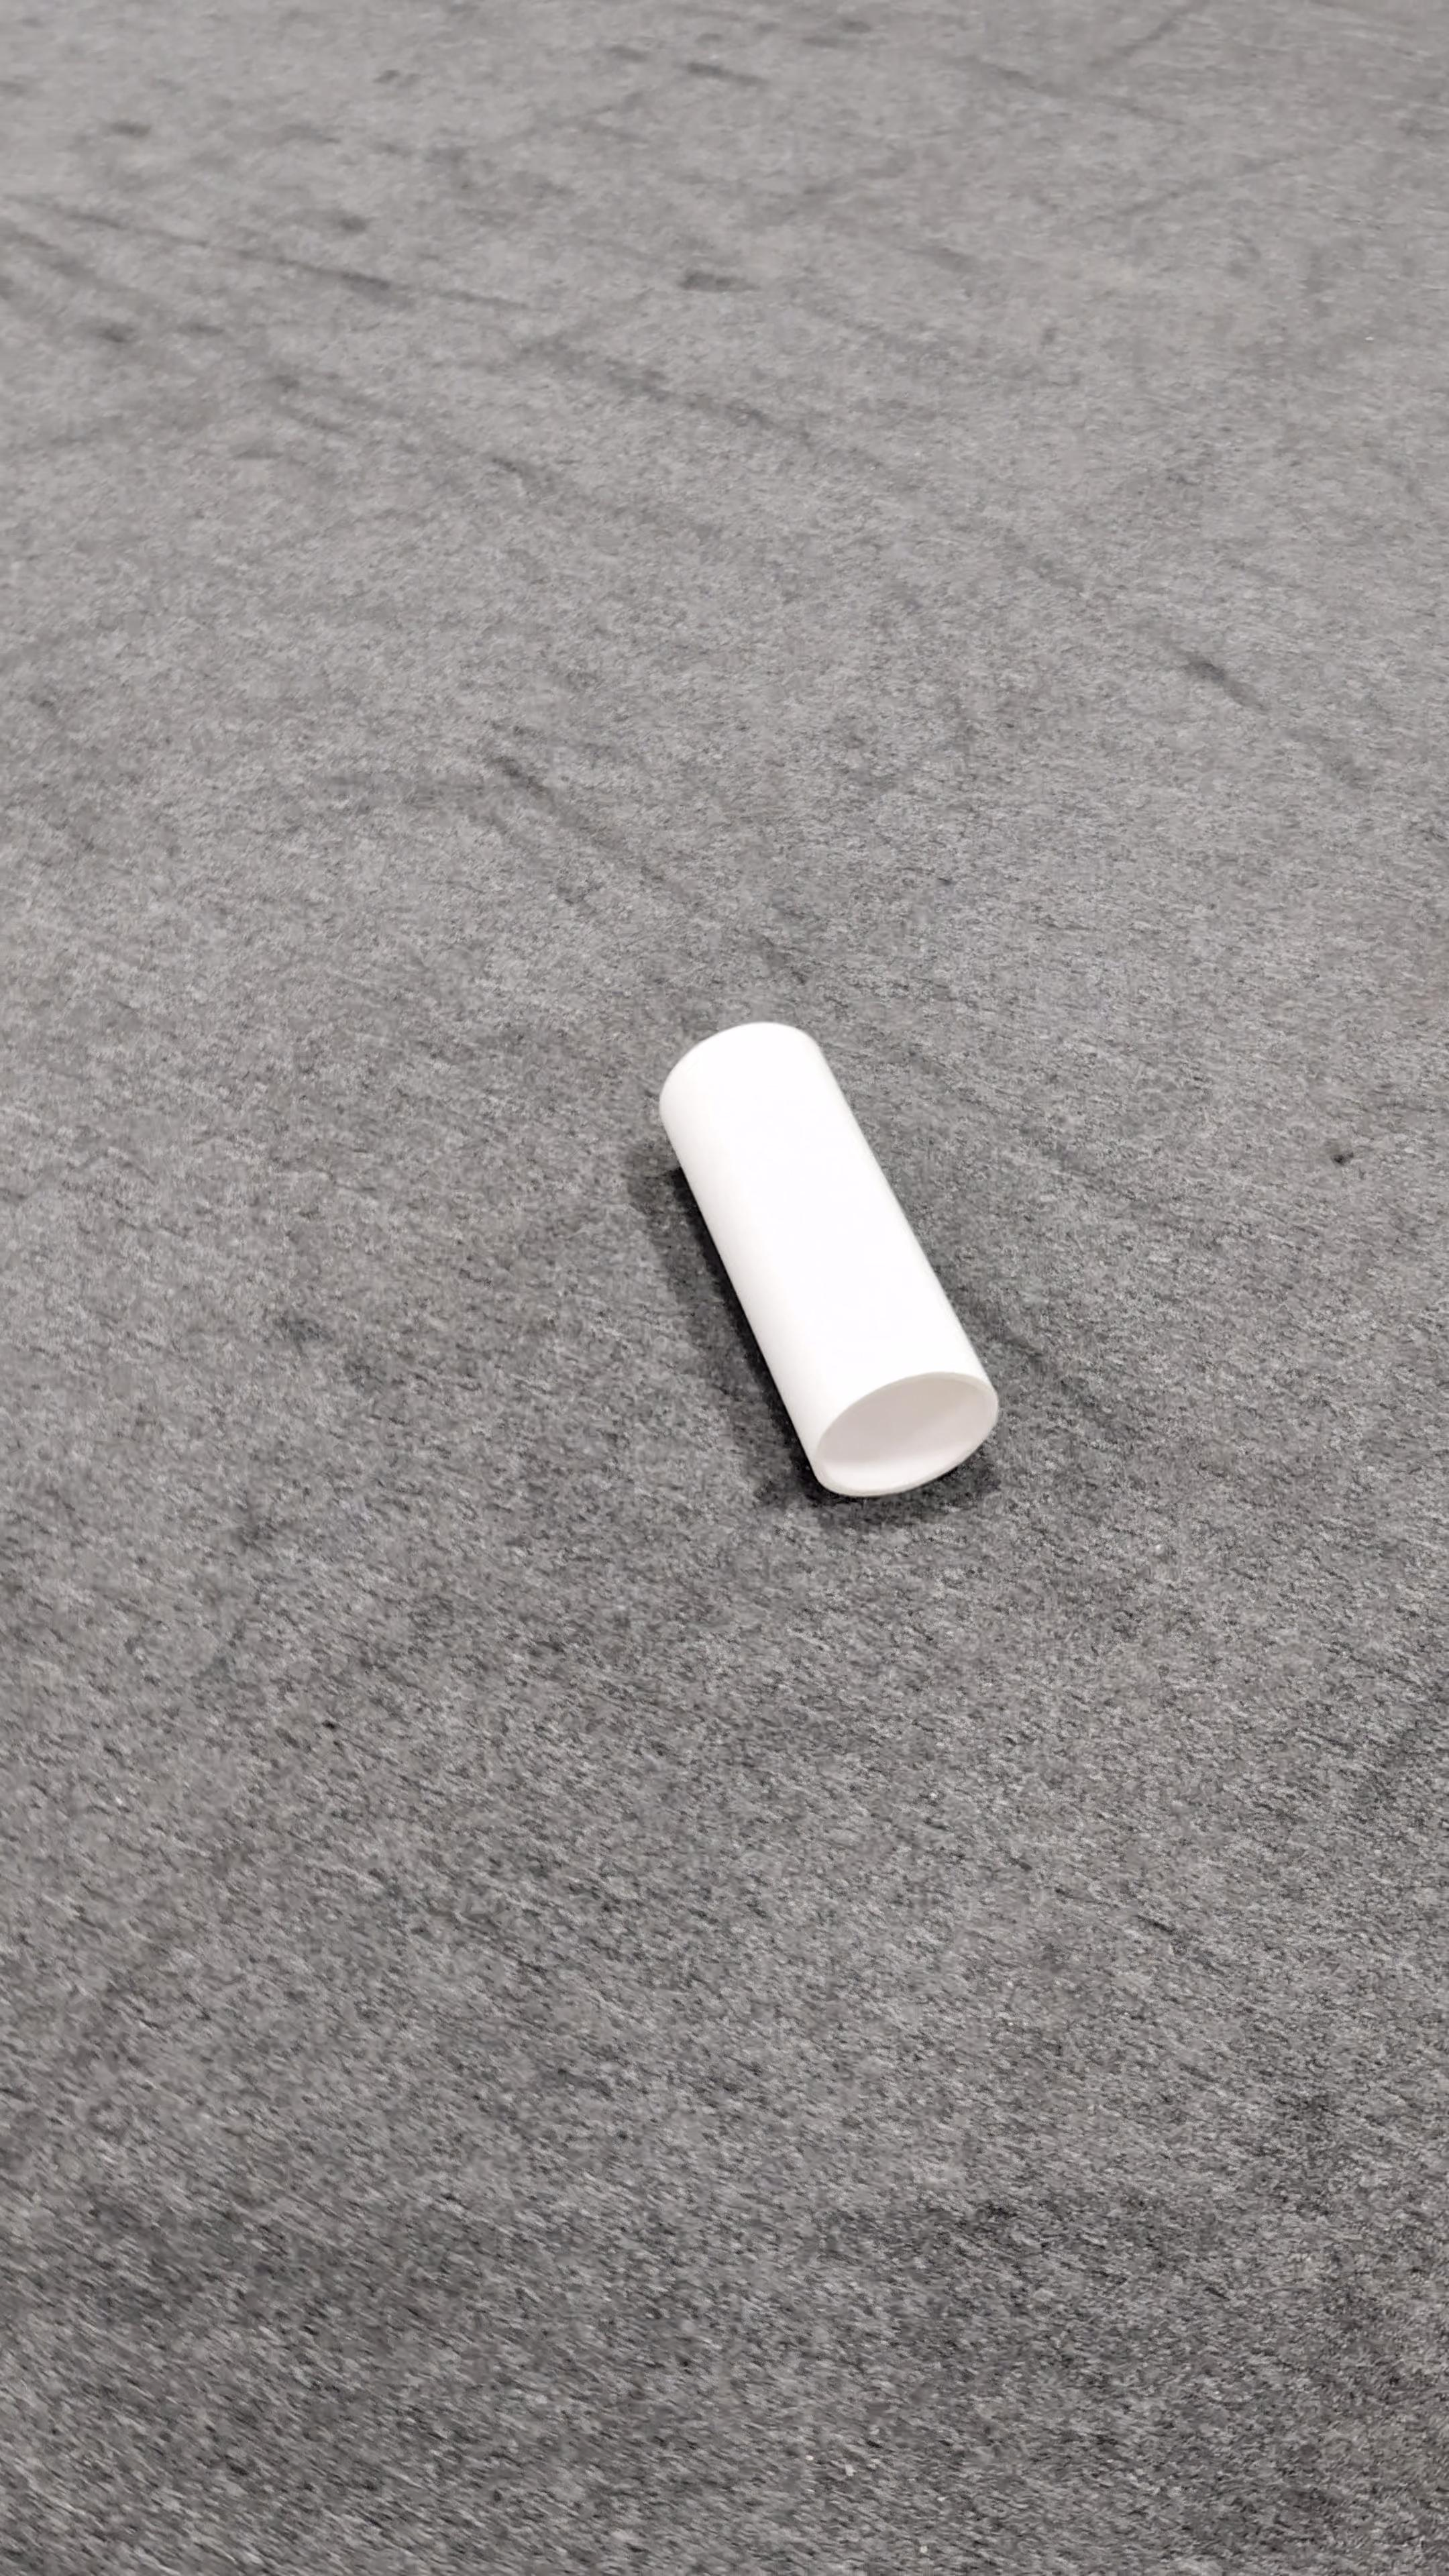coral: (653, 1016, 1003, 1499)
